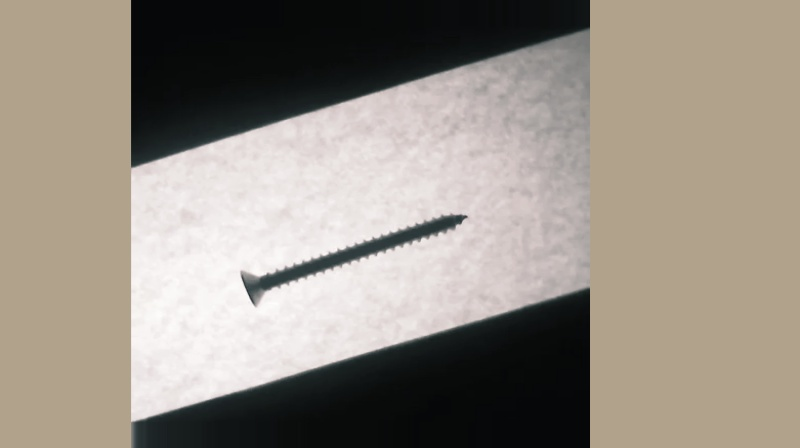S002: (234, 210, 468, 310)
